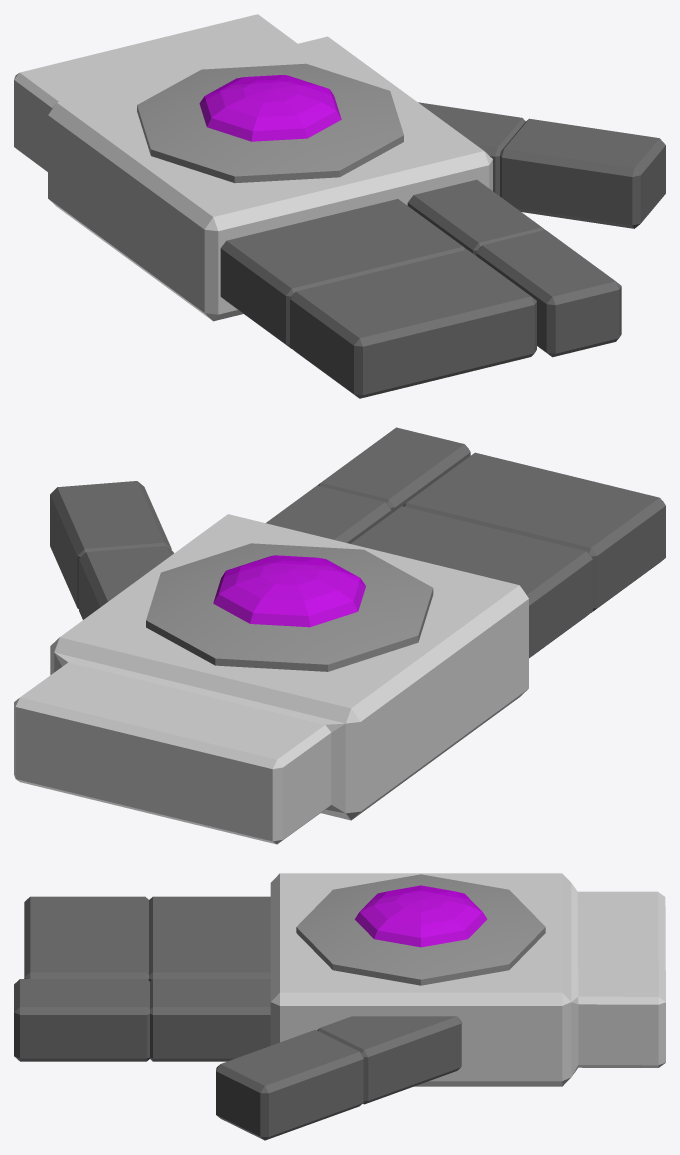
File: Game3040 - Right Hand.fbx
3 renders of one model, top to bottom at view 1: azimuth 30°, elevation 25°; view 2: azimuth 150°, elevation 25°; view 3: azimuth 270°, elevation 25°, orthographic. The views are drawn at different scales.
Parts seen in each view (by area): view 1: Palm, pCube5, pCylinder1, Other_Fingers, pCube7, pCube3, pSphere1, Index_Finger, Thumb; view 2: Palm, pCylinder1, pCube5, Other_Fingers, pSphere1, pCube7, pCube3, Index_Finger, Thumb; view 3: Palm, pCylinder1, pCube7, pCube3, pCube5, Other_Fingers, Index_Finger, Thumb, pSphere1.
Boxes of the visible parts, x1,y1,x2,y2 form: Palm: (14, 14, 492, 321); pCube5: (290, 249, 536, 398); pCylinder1: (137, 63, 403, 183); Other_Fingers: (220, 199, 466, 348); pCube7: (500, 118, 665, 228); pCube3: (476, 230, 621, 357); pSphere1: (199, 75, 341, 141); Index_Finger: (407, 179, 544, 255); Thumb: (418, 102, 525, 195); Palm: (14, 514, 528, 844); pCylinder1: (146, 543, 433, 671); pCube5: (402, 452, 665, 612); Other_Fingers: (350, 506, 592, 658); pSphere1: (213, 555, 365, 627); pCube7: (50, 481, 171, 608); pCube3: (317, 427, 470, 513); Index_Finger: (266, 485, 391, 543); Thumb: (79, 545, 173, 619); Palm: (270, 873, 665, 1086); pCylinder1: (296, 874, 545, 985); pCube7: (216, 1030, 363, 1140); pCube3: (14, 979, 149, 1061); pCube5: (24, 896, 148, 980); Other_Fingers: (149, 896, 270, 981); Index_Finger: (150, 979, 270, 1061); Thumb: (317, 1016, 461, 1104); pSphere1: (354, 885, 487, 947).
Size of the model in its own units: 1.81 by 0.5415 by 2.51.
